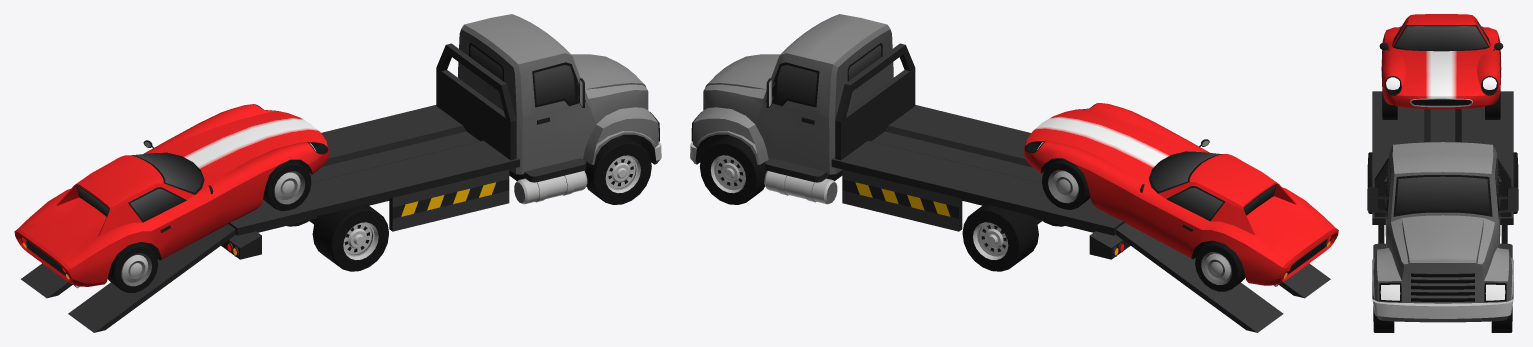
File: Emergency_003.glb
3 renders of one model, left to right at view 1: azimuth 30°, elevation 25°; view 2: azimuth 150°, elevation 25°; view 3: azimuth 270°, elevation 25°, orthographic. The views are drawn at different scales.
Parts seen in each view (by area): view 1: Emergency_003, wheel_3_Emergency_003_Wheel_2R, wheel_1_Emergency_003_Wheel_1R; view 2: Emergency_003, wheel_2_Emergency_003_Wheel_2L, wheel_0_Emergency_003_Wheel_1L; view 3: Emergency_003, wheel_0_Emergency_003_Wheel_1L, wheel_1_Emergency_003_Wheel_1R, wheel_2_Emergency_003_Wheel_2L, wheel_3_Emergency_003_Wheel_2R.
Part boxes in pixels (x1=…): Emergency_003: x1=14, y1=14, x2=661, y2=332; wheel_3_Emergency_003_Wheel_2R: x1=312, y1=204, x2=388, y2=271; wheel_1_Emergency_003_Wheel_1R: x1=584, y1=135, x2=651, y2=204; Emergency_003: x1=690, y1=14, x2=1338, y2=332; wheel_2_Emergency_003_Wheel_2L: x1=962, y1=204, x2=1038, y2=271; wheel_0_Emergency_003_Wheel_1L: x1=699, y1=135, x2=766, y2=204; Emergency_003: x1=1367, y1=14, x2=1518, y2=322; wheel_0_Emergency_003_Wheel_1L: x1=1491, y1=306, x2=1512, y2=332; wheel_1_Emergency_003_Wheel_1R: x1=1373, y1=306, x2=1394, y2=332; wheel_2_Emergency_003_Wheel_2L: x1=1513, y1=152, x2=1518, y2=213; wheel_3_Emergency_003_Wheel_2R: x1=1367, y1=152, x2=1372, y2=213.
Size of the model in its own units: 9.81 by 2.5 by 2.34.
Materials: 3 (3 with a texture image).
